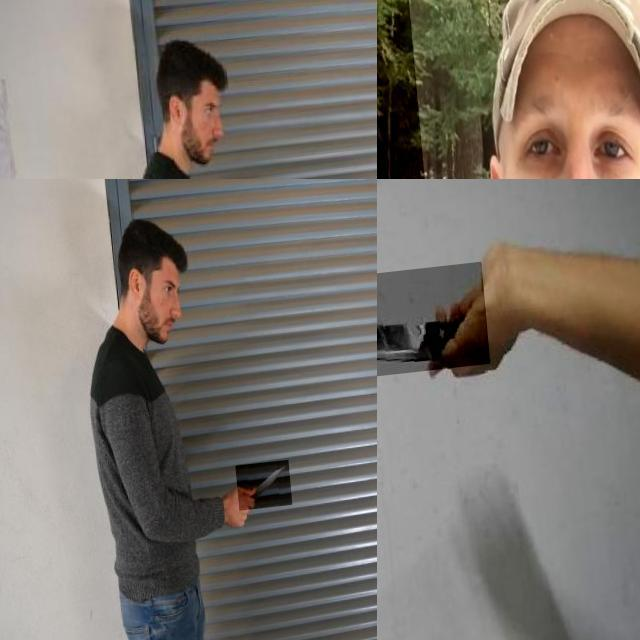-: (377, 0, 509, 179), (377, 271, 485, 389), (229, 469, 285, 519)
